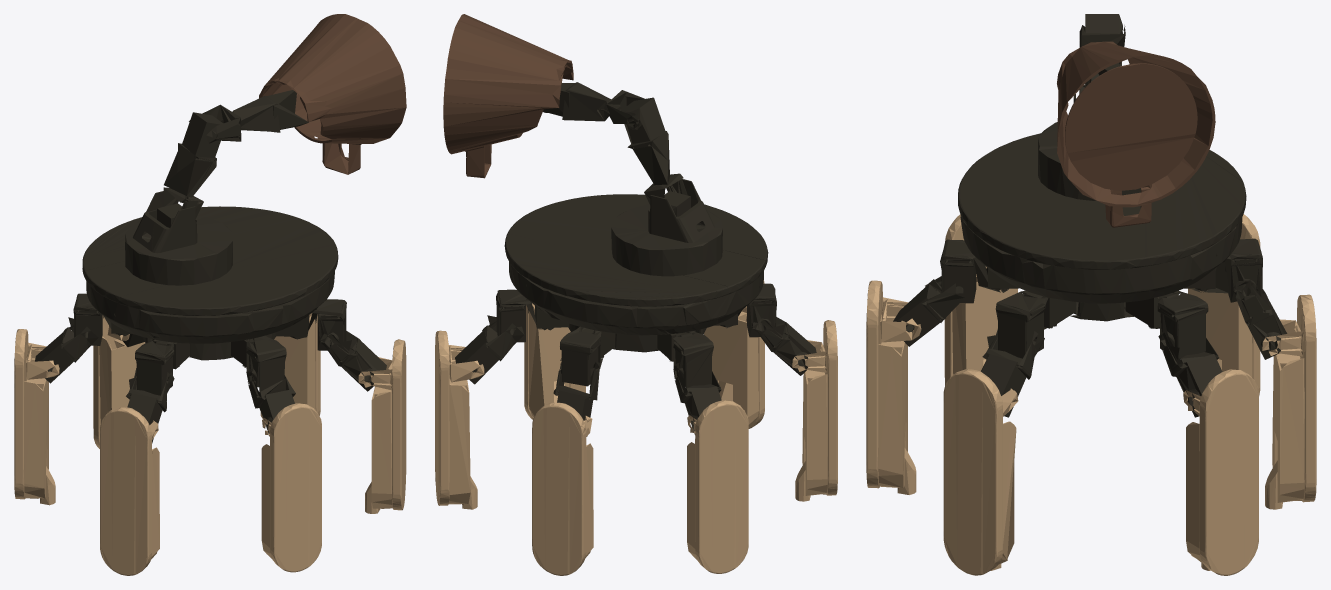
Rendered from palmimo.glb.
3 views of the same model, side by side, from view 1: azimuth 30°, elevation 25°; view 2: azimuth 150°, elevation 25°; view 3: azimuth 270°, elevation 25° (orthographic). The views are drawn at different scales.
Parts seen in each view (by area): view 1: base_link, neck_yaw, leg_5_pitch2, leg_4_pitch2, leg_1_pitch2, leg_6_pitch2, neck_pitch1, leg_2_pitch2, neck_pitch2, leg_3_pitch2, leg_5_yaw, leg_4_yaw (+6 smaller); view 2: base_link, neck_yaw, leg_2_pitch2, leg_1_pitch2, leg_3_pitch2, leg_4_pitch2, leg_5_pitch2, neck_pitch1, leg_6_pitch2, neck_pitch2, leg_2_yaw, leg_1_yaw (+6 smaller); view 3: base_link, neck_yaw, leg_3_pitch2, leg_6_pitch2, leg_2_pitch2, leg_5_pitch2, leg_4_pitch2, leg_1_pitch2, leg_3_yaw, leg_6_yaw, leg_2_yaw, leg_5_yaw (+6 smaller).
Boxes of the visible parts, x1,y1,x2,y2 form: base_link: [82, 191, 338, 369]; neck_yaw: [259, 14, 406, 174]; leg_5_pitch2: [261, 403, 321, 572]; leg_4_pitch2: [100, 407, 159, 575]; leg_1_pitch2: [14, 329, 59, 505]; leg_6_pitch2: [358, 339, 406, 513]; neck_pitch1: [163, 112, 222, 218]; leg_2_pitch2: [93, 315, 145, 448]; neck_pitch2: [189, 90, 308, 143]; leg_3_pitch2: [260, 313, 320, 418]; leg_5_yaw: [242, 335, 286, 392]; leg_4_yaw: [135, 339, 174, 395]; base_link: [504, 179, 768, 361]; neck_yaw: [443, 14, 573, 178]; leg_2_pitch2: [532, 402, 593, 575]; leg_1_pitch2: [687, 400, 748, 573]; leg_3_pitch2: [435, 330, 484, 509]; leg_4_pitch2: [792, 320, 837, 501]; leg_5_pitch2: [704, 280, 764, 428]; neck_pitch1: [620, 97, 687, 204]; leg_6_pitch2: [524, 303, 585, 419]; neck_pitch2: [543, 82, 644, 128]; leg_2_yaw: [560, 327, 603, 386]; leg_1_yaw: [670, 331, 713, 388]; base_link: [958, 94, 1246, 328]; neck_yaw: [1057, 41, 1215, 227]; leg_3_pitch2: [1183, 369, 1258, 575]; leg_6_pitch2: [943, 369, 1018, 575]; leg_2_pitch2: [1262, 294, 1316, 509]; leg_5_pitch2: [866, 280, 921, 494]; leg_4_pitch2: [944, 214, 1017, 385]; leg_1_pitch2: [1188, 214, 1260, 395]; leg_3_yaw: [1150, 290, 1208, 358]; leg_6_yaw: [995, 290, 1048, 358]; leg_2_yaw: [1192, 238, 1262, 302]; leg_5_yaw: [940, 239, 1008, 303].
Size of the model in its own units: 0.3179 by 0.4126 by 0.3074.
